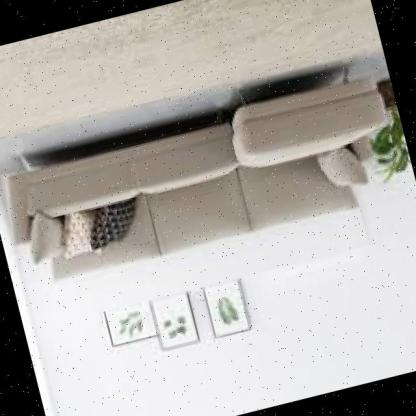Sofa: (0, 31, 416, 315)
